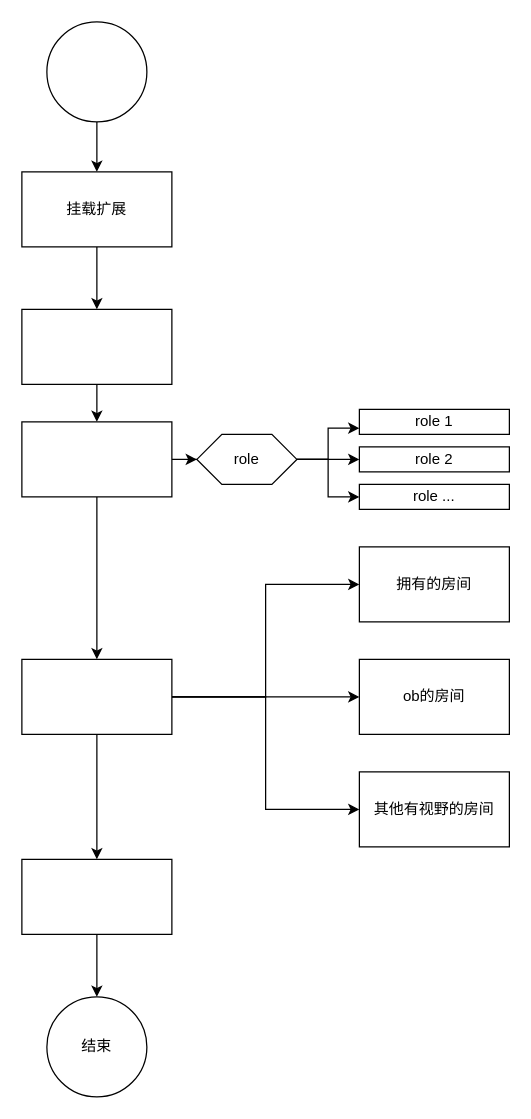
The diagram is 531 pixels wide and 1119 high, and some of its shapes have lost their labels. The shapes that lost their labels are listed below. From the top down, each one's box as (x1, y1, x2, y2) in pixels, then its label:
(46, 21, 147, 122): 开始
(21, 308, 172, 384): 建筑规划 日常维护 内存恢复
(21, 421, 172, 497): Creep执行器
(21, 658, 172, 734): 房间执行器
(21, 858, 172, 934): 日常清理
